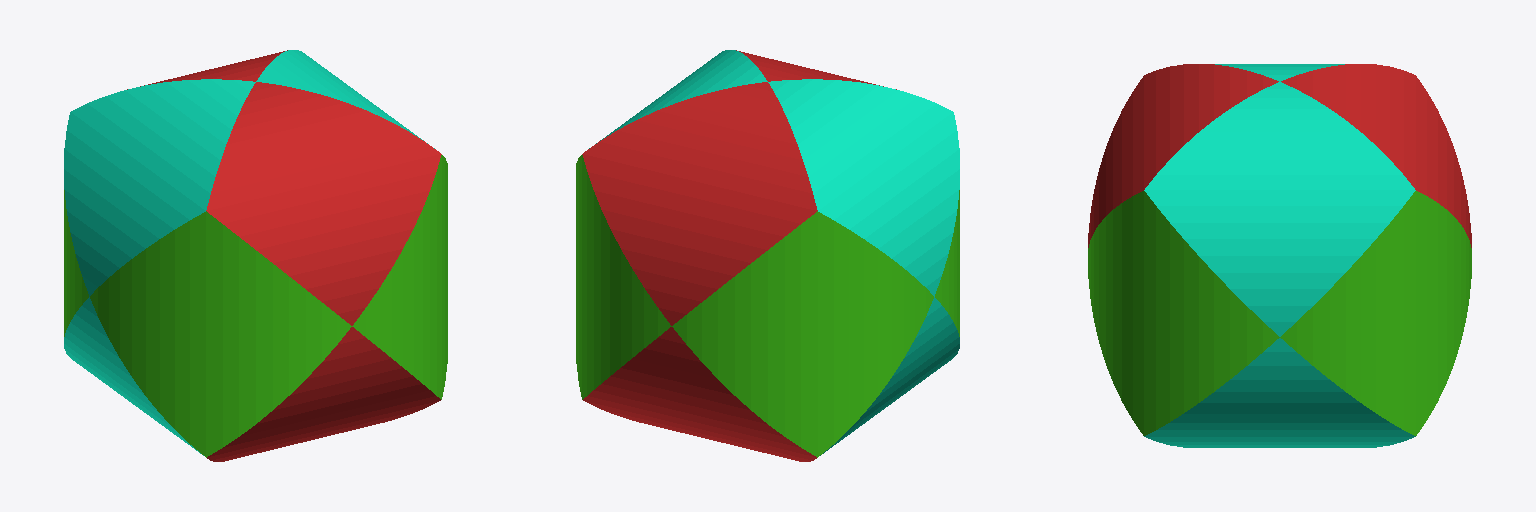
3 views of the same model, side by side, from view 1: azimuth 30°, elevation 25°; view 2: azimuth 150°, elevation 25°; view 3: azimuth 270°, elevation 25° (orthographic).
Visible parts, largest first — view 1: Cylinder; view 2: Cylinder; view 3: Cylinder.
Part boxes in pixels (left/top/right/bottom): Cylinder: left=64, top=50, right=447, bottom=461; Cylinder: left=576, top=50, right=959, bottom=461; Cylinder: left=1088, top=64, right=1471, bottom=447.
Size of the model in its own units: 1 by 1 by 1.
Materials: 1 (1 with a texture image).